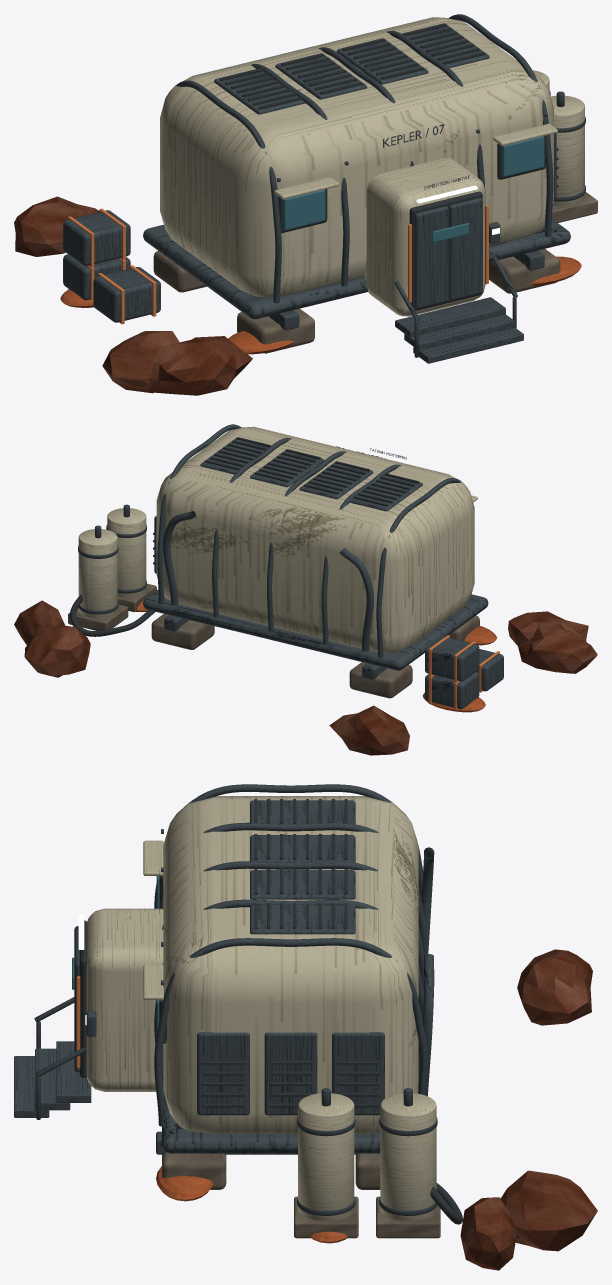
File: expedition-habitat.glb
3 renders of one model, top to bottom at view 1: azimuth 30°, elevation 25°; view 2: azimuth 150°, elevation 25°; view 3: azimuth 270°, elevation 25°, orthographic. The views are drawn at different scales.
Parts seen in each view (by area): view 1: habitat / ceramic-paint, habitat / dusty-alloy, habitat / ironstone, habitat / seal rubber, habitat / cast-foundation, habitat / blue reflective glazing, habitat / oxidized safety enamel, habitat / regolith; view 2: habitat / ceramic-paint, habitat / dusty-alloy, habitat / ironstone, habitat / cast-foundation, habitat / seal rubber, habitat / regolith, habitat / oxidized safety enamel; view 3: habitat / ceramic-paint, habitat / dusty-alloy, habitat / ironstone, habitat / seal rubber, habitat / cast-foundation, habitat / regolith.
Boxes of the visible parts, x1,y1,x2,y2 form: habitat / ceramic-paint: (160, 17, 584, 316); habitat / dusty-alloy: (63, 14, 585, 363); habitat / ironstone: (14, 196, 252, 395); habitat / seal rubber: (220, 23, 558, 310); habitat / cast-foundation: (153, 192, 597, 353); habitat / blue reflective glazing: (284, 136, 544, 242); habitat / oxidized safety enamel: (68, 205, 488, 324); habitat / regolith: (60, 256, 581, 354); habitat / ceramic-paint: (78, 426, 477, 652); habitat / dusty-alloy: (78, 424, 503, 709); habitat / ironstone: (14, 600, 597, 755); habitat / cast-foundation: (68, 583, 479, 698); habitat / seal rubber: (70, 437, 419, 636); habitat / regolith: (136, 600, 496, 712); habitat / oxidized safety enamel: (428, 635, 499, 710); habitat / ceramic-paint: (86, 796, 436, 1221); habitat / dusty-alloy: (14, 784, 437, 1215); habitat / ironstone: (460, 949, 597, 1270); habitat / seal rubber: (79, 799, 462, 1224); habitat / cast-foundation: (162, 1152, 440, 1238); habitat / regolith: (156, 1166, 347, 1243).
Size of the model in its own units: 13.27 by 5.07 by 9.95.
Materials: 9 (5 with a texture image).
